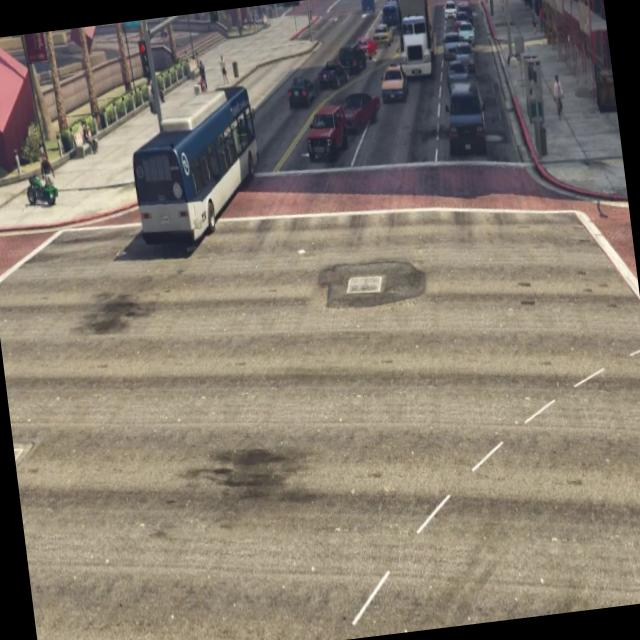Red-Signal: (127, 27, 158, 90), (201, 9, 232, 35), (276, 0, 310, 19)
